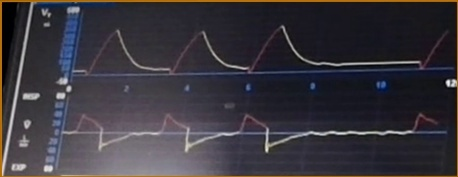Flow: (66, 111, 434, 168)
Leakage Volume: (74, 21, 452, 78)
